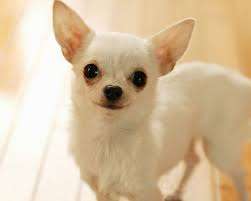chihuahua: (52, 1, 250, 200)
